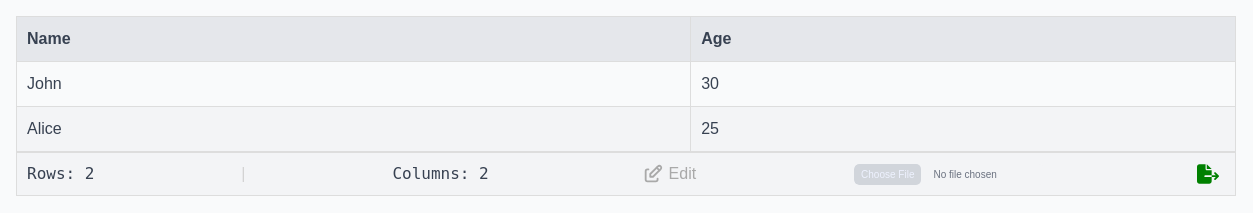
it: DataGrid Integration Test › renders table with correct data and handles sorting
Expected: the number of rows with test id "body-table-row" is 2, [16,62,1236,106]
Expected: the cell with test id "table-cell" reads "John", [27,75,62,92]
Simulate sorting by Name
Click the cell with test id "table-head-cell" showing "Name".
click(354, 39)  # box [16,16,691,62]
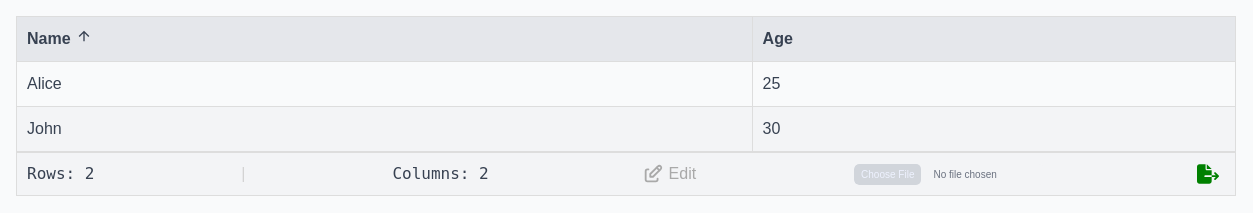
Result: the cell with test id "table-cell" reads "Alice" at [27,75,62,92]
Result: the cell with test id "table-cell" reads "25" at [763,75,780,92]
Result: the cell with test id "table-cell" reads "John" at [27,120,62,137]
